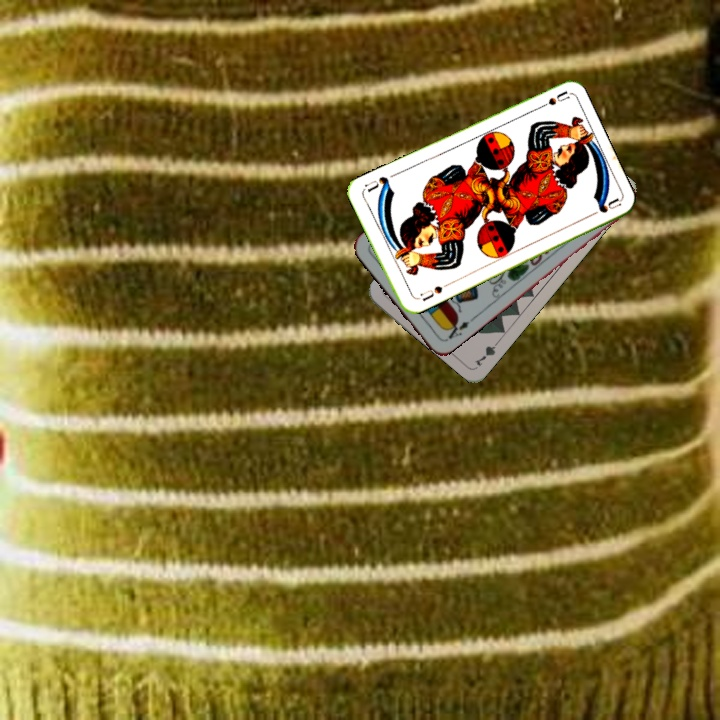EA: (441, 316, 472, 343)
G7: (470, 335, 503, 369)
SU: (531, 87, 571, 113), (412, 282, 445, 304)
